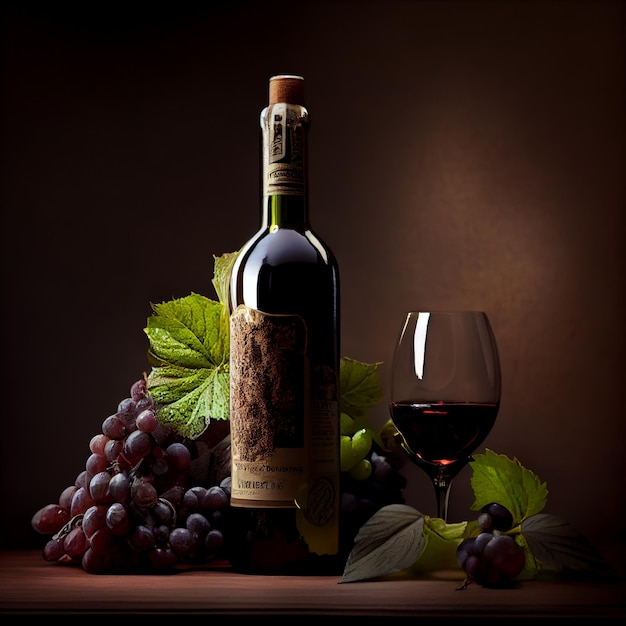alcohol: (226, 73, 340, 579), (381, 308, 508, 525)
